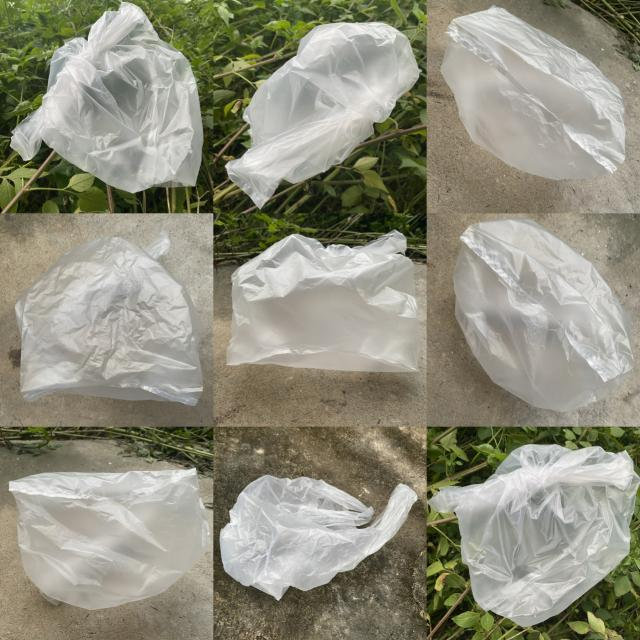Single-layer Plastic: (429, 445, 640, 626), (11, 2, 202, 192), (226, 22, 419, 208), (454, 218, 634, 411), (15, 230, 202, 405), (441, 6, 625, 179), (9, 469, 210, 610), (226, 230, 420, 372), (220, 475, 418, 600)
